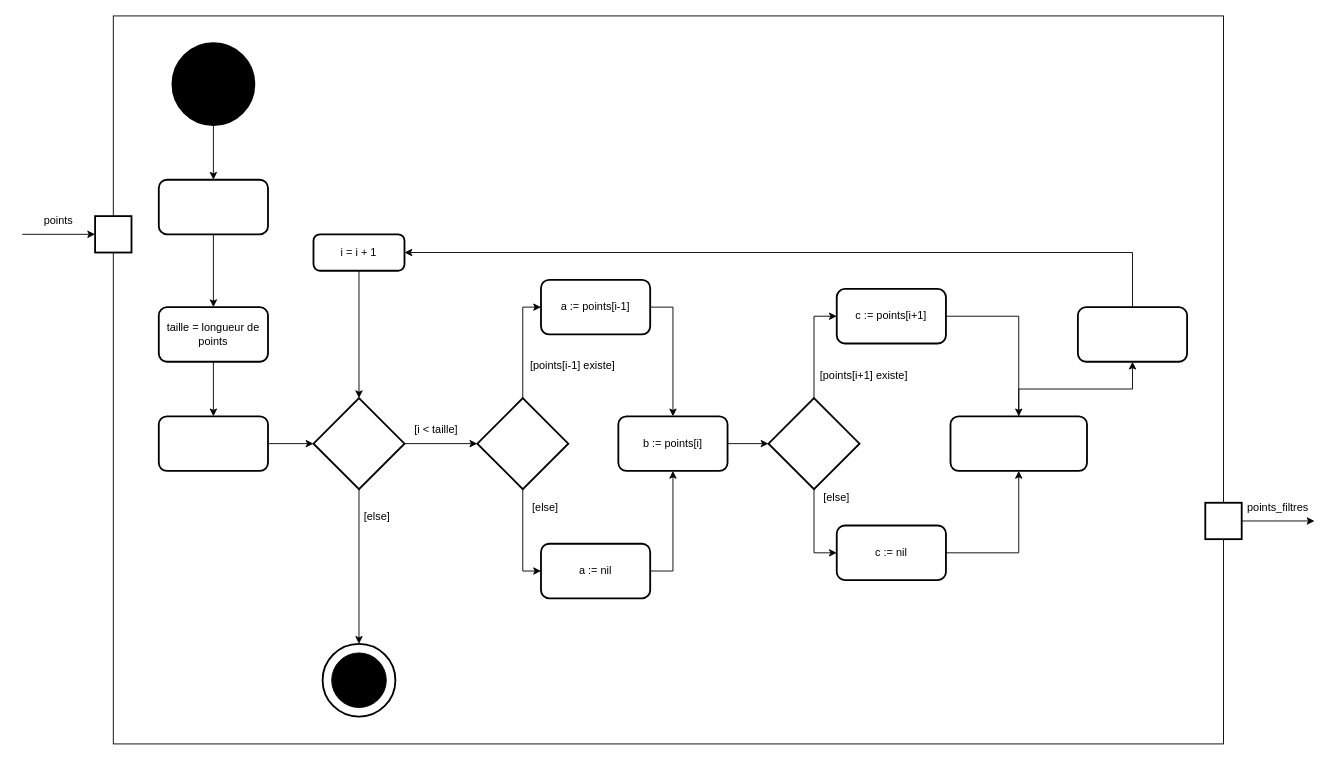
Image size: 1338x760. Some labels were removed from this diagram. The centre of each missing label's shape, as x and y in pixels:
ajouter moyenne à la fin de points_filtres: the point at 1132,334
i := 0: the point at 212,443
moyenne := stats.moyenne de a, b, c: the point at 1018,443
points_filtres := []: the point at 212,206
